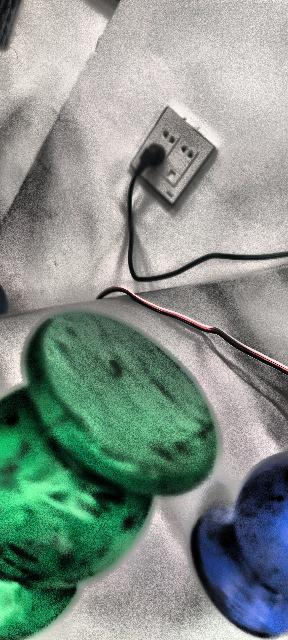blue: (191, 451, 287, 637)
green: (0, 320, 214, 640)
